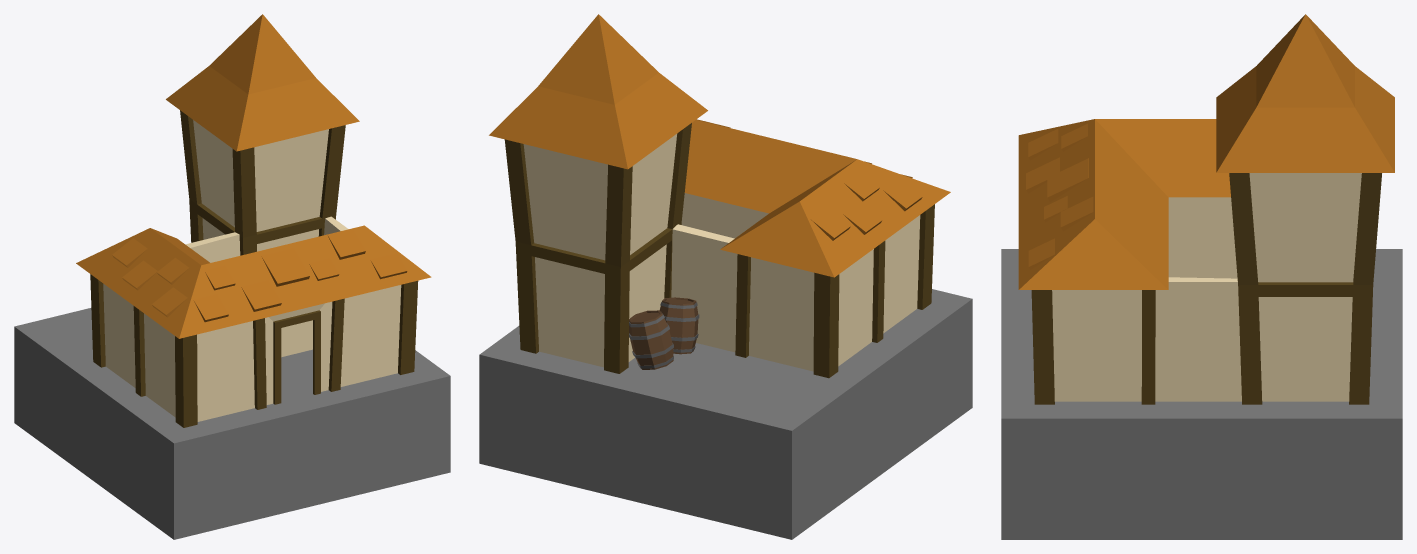
The model's file is town-center.gltf.
3 renders of one model, left to right at view 1: azimuth 30°, elevation 25°; view 2: azimuth 150°, elevation 25°; view 3: azimuth 270°, elevation 25°, orthographic. The views are drawn at different scales.
Visible parts, largest first — view 1: Plane; view 2: Plane; view 3: Plane.
Part boxes in pixels (x1,y1,x2,y2): Plane: (14,14,450,539); Plane: (479,14,972,539); Plane: (1001,14,1402,539).
Size of the model in its own units: 3 by 4 by 3.
